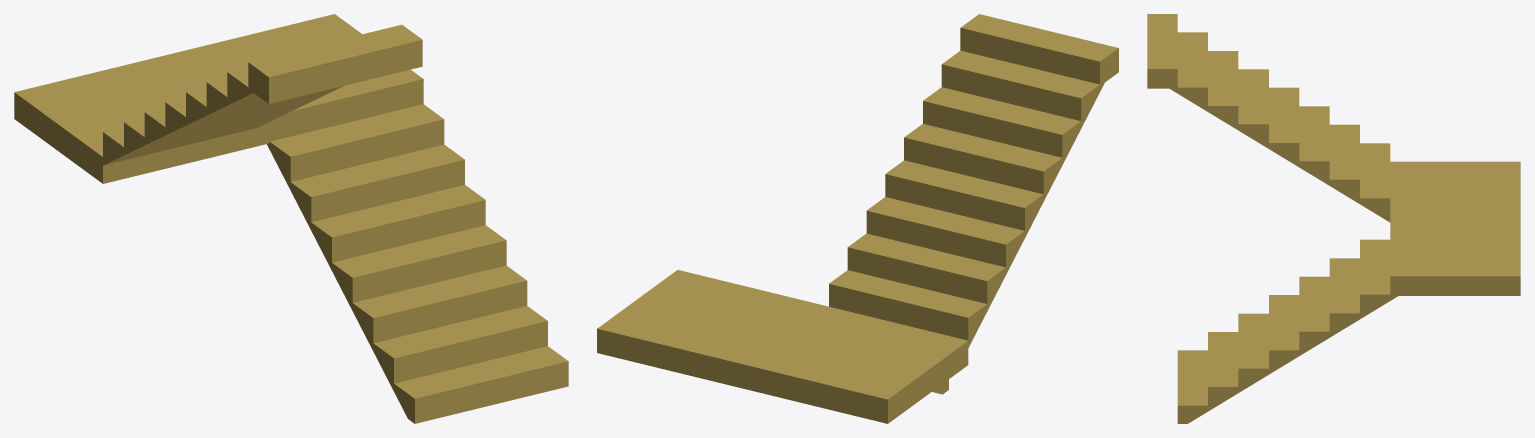
The model's file is arch_stair_u_f300.glb.
3 renders of one model, left to right at view 1: azimuth 30°, elevation 25°; view 2: azimuth 150°, elevation 25°; view 3: azimuth 270°, elevation 25°, orthographic. The views are drawn at different scales.
Visible parts, largest first — view 1: Stair; view 2: Stair; view 3: Stair.
Part boxes in pixels (box(x1,y1,x2,y2)): Stair: box(14, 14, 568, 423); Stair: box(597, 14, 1118, 423); Stair: box(1147, 14, 1520, 423).
Size of what is drawn, in the model's own units: 2.5 by 3 by 3.44.
